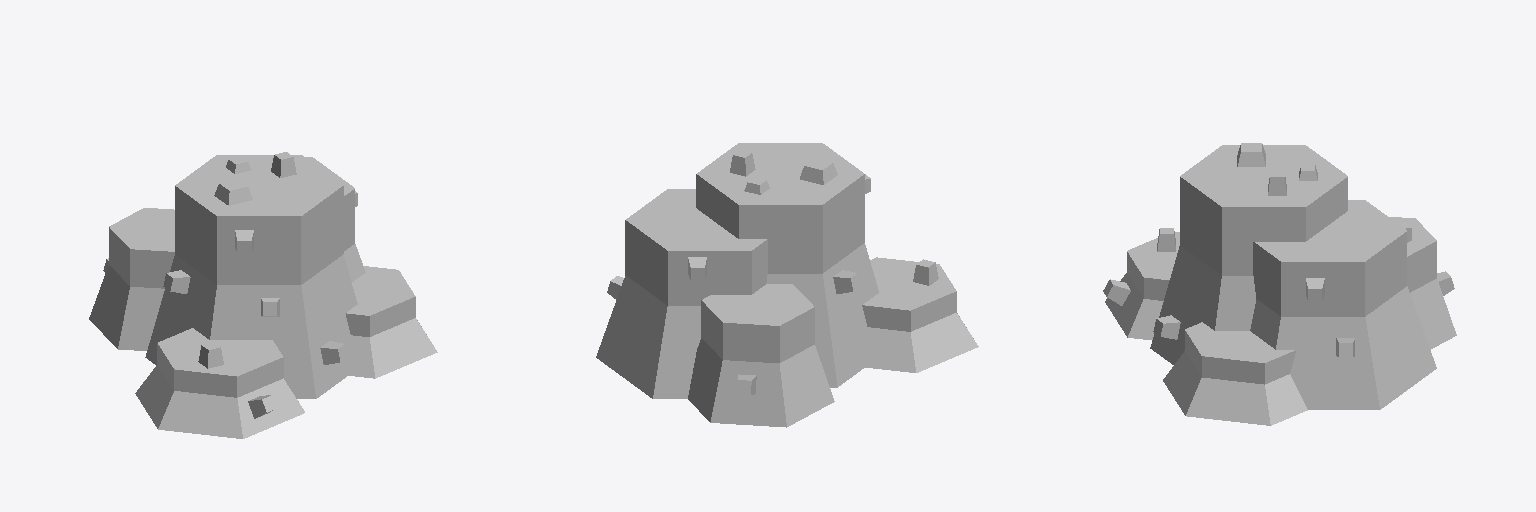
File: rock_crystalsLargeB.obj
3 views of the same model, side by side, from view 1: azimuth 30°, elevation 25°; view 2: azimuth 150°, elevation 25°; view 3: azimuth 270°, elevation 25° (orthographic).
Parts seen in each view (by area): view 1: rock_crystalsLargeB; view 2: rock_crystalsLargeB; view 3: rock_crystalsLargeB.
Part boxes in pixels (x1,y1,x2,y2): rock_crystalsLargeB: (89, 152, 437, 438); rock_crystalsLargeB: (596, 143, 978, 427); rock_crystalsLargeB: (1103, 143, 1456, 425).
Size of the model in its own units: 0.9393 by 0.55 by 0.9321.